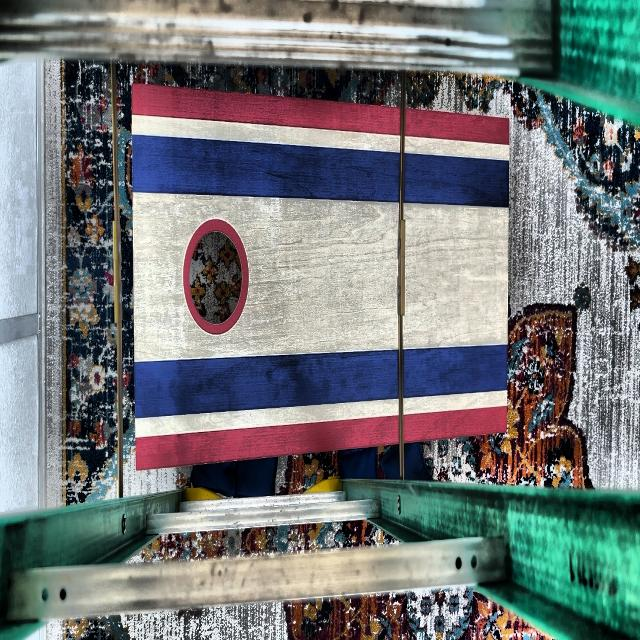blue-bean-bag: (380, 443, 433, 482), (232, 457, 278, 497), (190, 462, 233, 496), (336, 448, 378, 479)
board: (136, 119, 507, 431)
hole: (182, 218, 249, 335)
